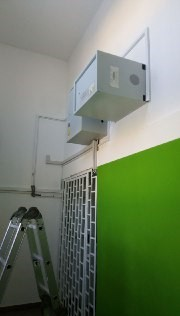shta-7m: (72, 49, 149, 124)
